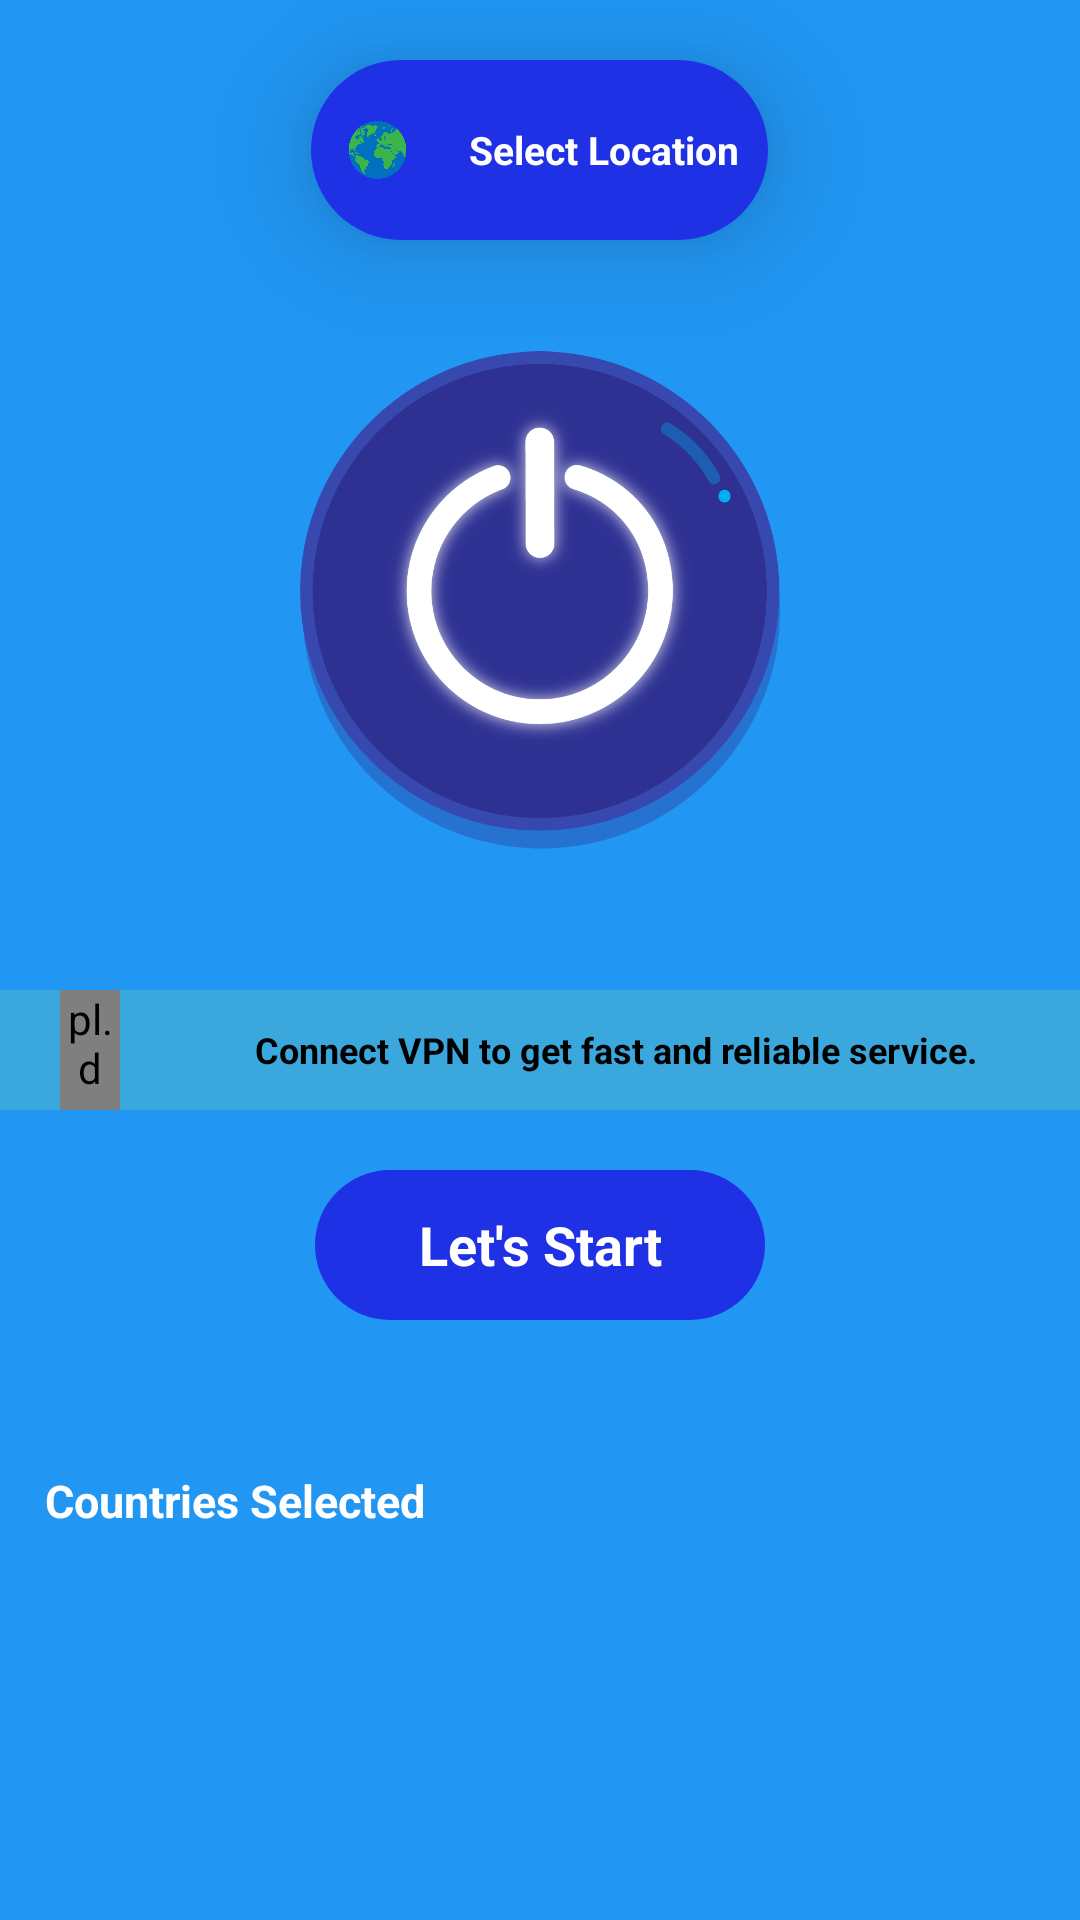

Icons on this 1080*1920 Android screen, each with the point to tap as (x,y):
earth: (377,150)
